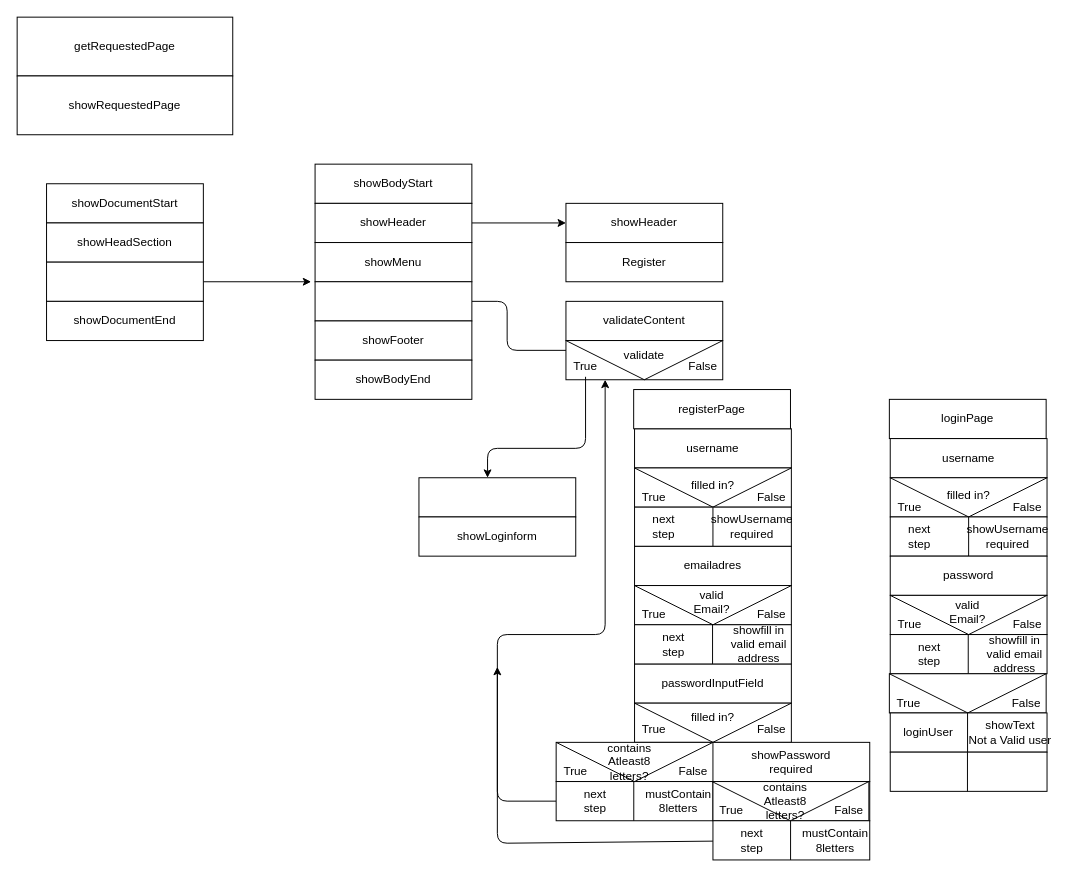
This 1071x878 diagram has some shape labels left out. Each missing label, with the box of its shape:
safeUser.txt: (418, 477, 576, 517)
showBodySection: (46, 261, 203, 301)
showContent: (314, 281, 472, 321)
userKnown?: (888, 673, 1046, 713)
